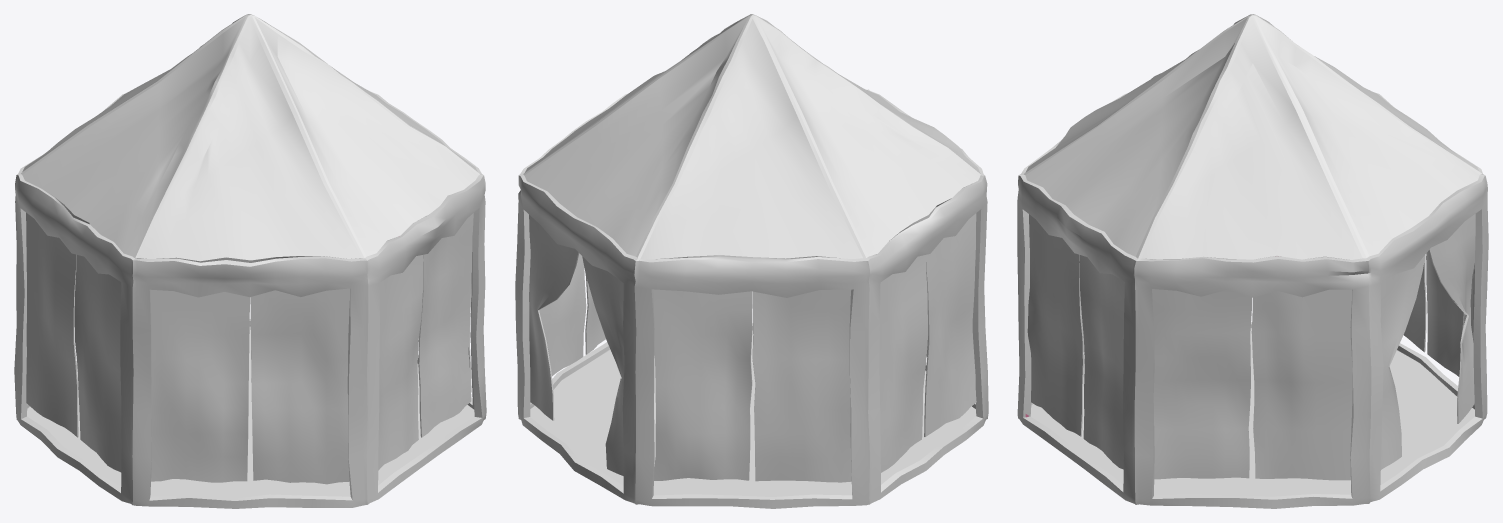
The model's file is tent_model.fbx.
3 views of the same model, side by side, from view 1: azimuth 30°, elevation 25°; view 2: azimuth 150°, elevation 25°; view 3: azimuth 270°, elevation 25° (orthographic).
Visible parts, largest first — view 1: tent_base, drapes; view 2: tent_base, drapes; view 3: tent_base, drapes.
Boxes of the visible parts, <box> form: tent_base: <box>14,14,486,508</box>; drapes: <box>26,212,473,484</box>; tent_base: <box>515,14,988,508</box>; drapes: <box>529,213,976,482</box>; tent_base: <box>1017,14,1488,508</box>; drapes: <box>1027,214,1475,480</box>.
Bounding box in the file's own units: 3.28 × 3.44 × 3.64.
3 materials, 1 textured.
